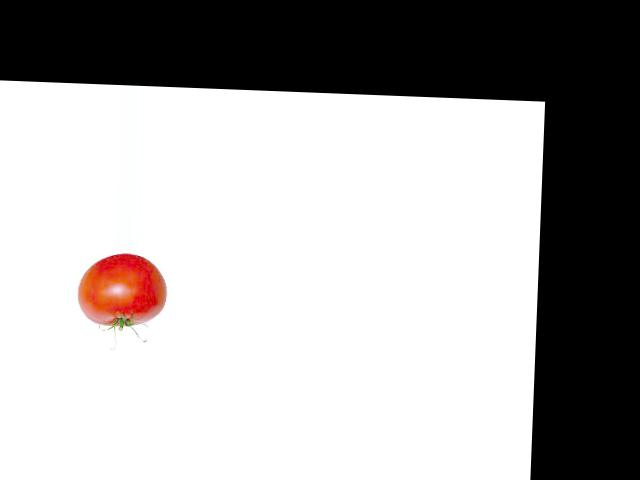tomato: (77, 252, 167, 327)
